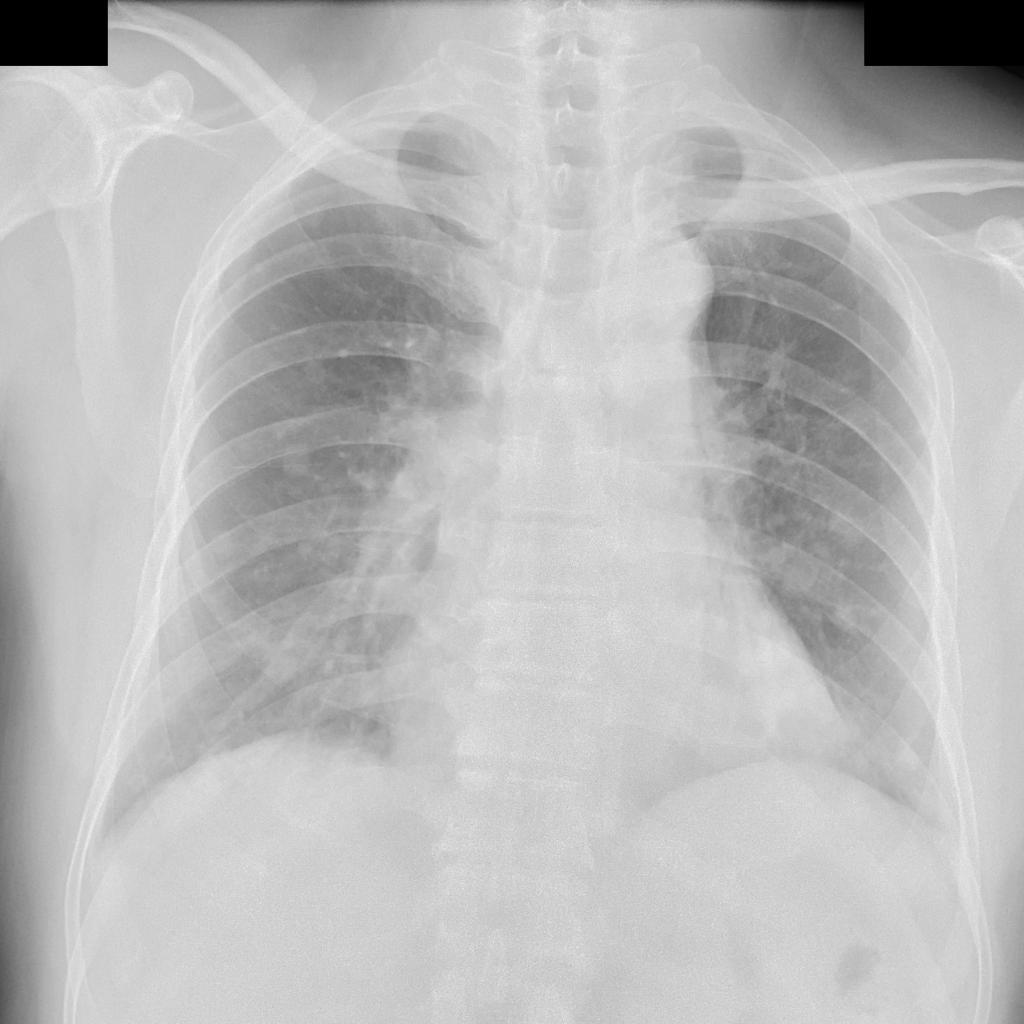Nodule: (202, 519, 243, 562), (832, 510, 864, 551), (783, 557, 815, 593), (281, 444, 313, 479), (290, 206, 329, 231), (302, 358, 332, 386), (333, 620, 359, 651), (830, 610, 859, 633), (209, 711, 235, 735), (902, 749, 923, 774), (289, 542, 319, 558)
